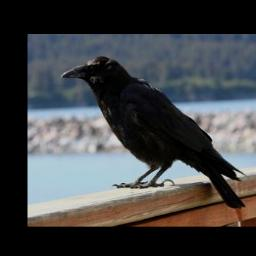Crow: (60, 54, 246, 209)
